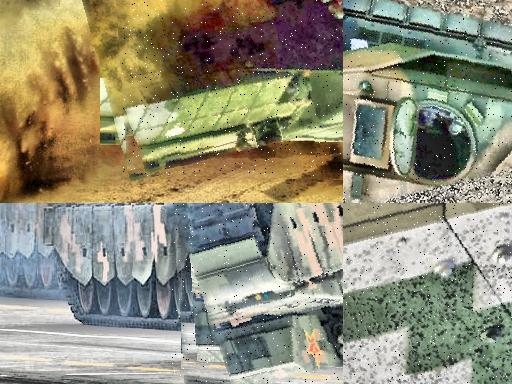tanks: (122, 1, 344, 177), (344, 1, 512, 204), (173, 204, 344, 384), (344, 204, 512, 384), (46, 204, 204, 330), (1, 204, 58, 297)
